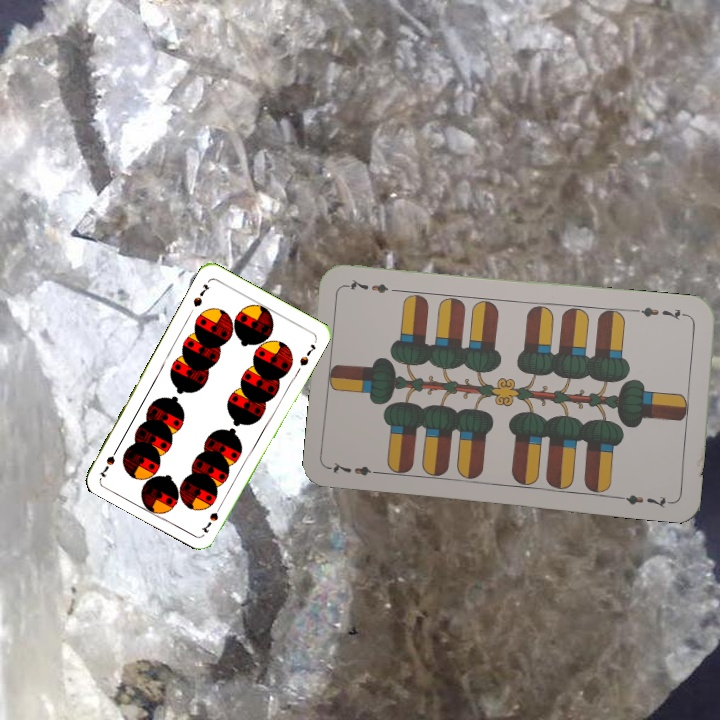E7: (327, 458, 386, 479), (632, 303, 691, 323)
S7: (198, 499, 225, 536), (189, 280, 212, 310)
